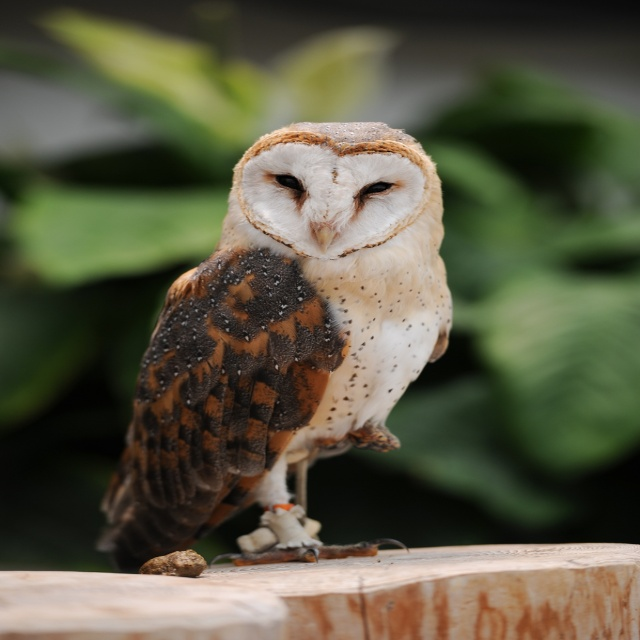Owl: (95, 121, 453, 564)
